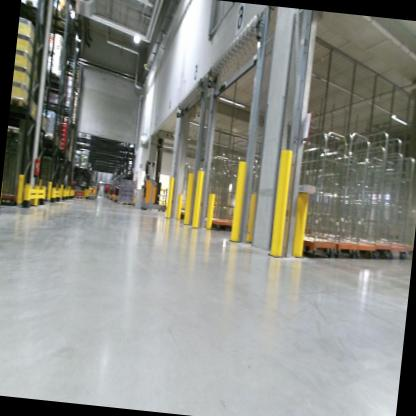forklift: (139, 132, 178, 217)
pallet: (45, 0, 68, 35), (18, 0, 38, 26), (9, 94, 31, 113), (7, 123, 25, 137), (43, 133, 57, 148)
pallet_truck: (86, 166, 100, 203), (111, 174, 125, 204), (106, 179, 118, 201)
